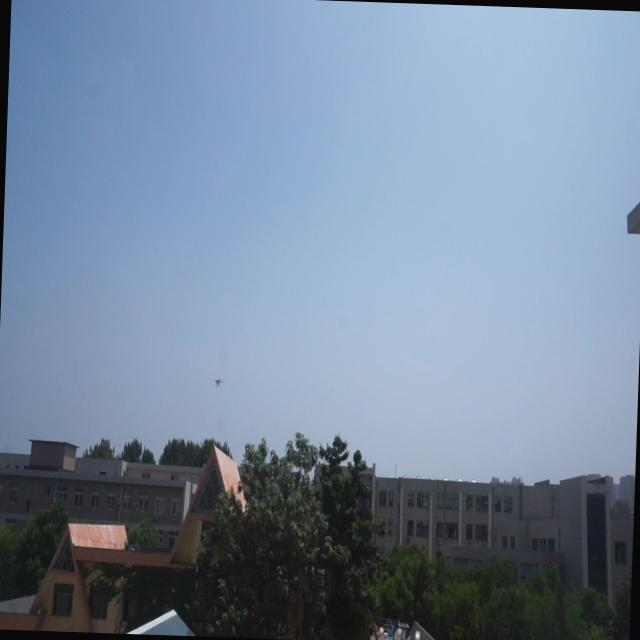drone: (212, 373, 225, 390)
